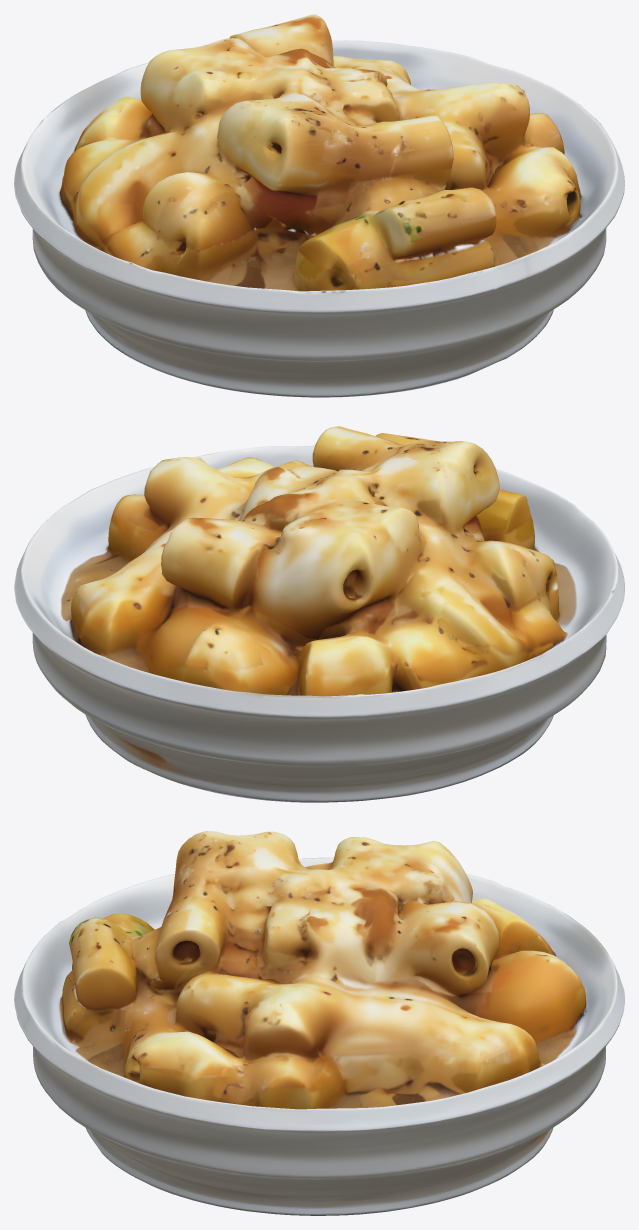
The model's file is french_dish.glb.
3 renders of one model, top to bottom at view 1: azimuth 30°, elevation 25°; view 2: azimuth 150°, elevation 25°; view 3: azimuth 270°, elevation 25°, orthographic.
Parts seen in each view (by area): view 1: model; view 2: model; view 3: model.
Boxes of the visible parts, x1,y1,x2,y2 form: model: (14, 14, 624, 397); model: (14, 426, 624, 802); model: (14, 831, 624, 1215).
Bounding box in the file's own units: 1.89 × 0.8265 × 1.89.
Materials: 1 (1 with a texture image).
